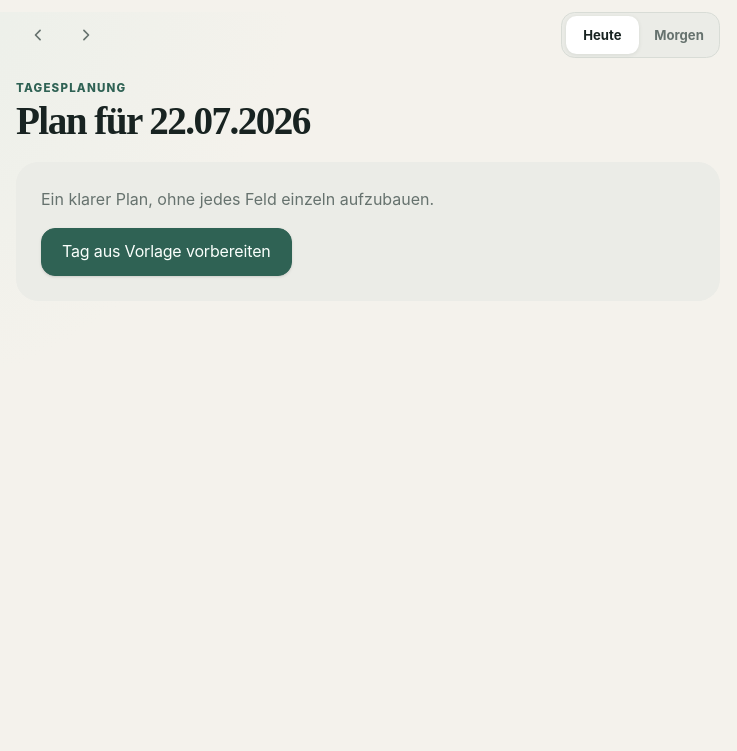
Test: Einfacher Block-Tagesplan › bereitet den gewählten Tag aus der Vorlage vor und zeigt nur die sechs Blöcke
Expected: the heading "Plan für 22.07.2026" is shown, [16,100,310,142]
Step 1. Click the button "Tag aus Vorlage vorbereiten" → (166, 252), box [41,228,292,276]
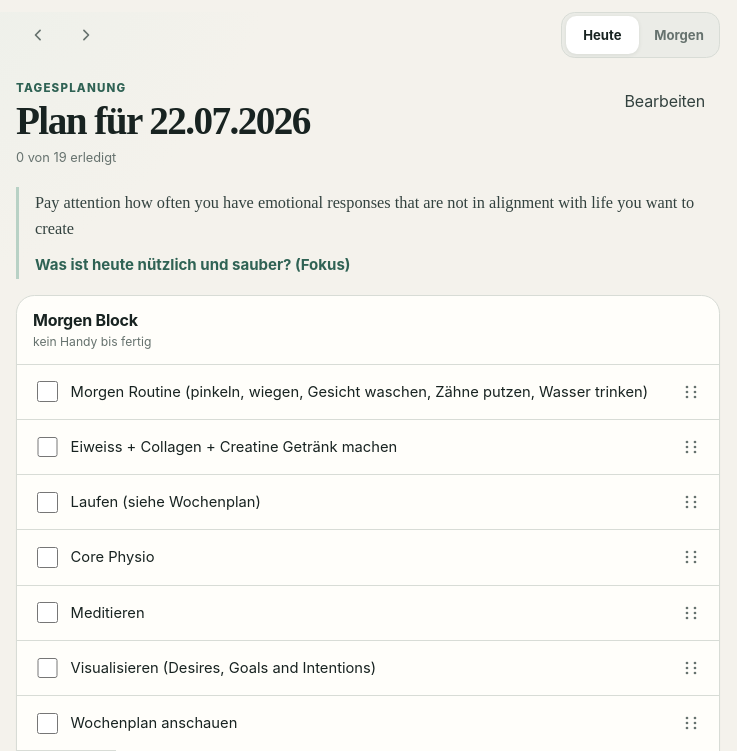
Expected: the heading "Morgen Block" is shown, [33,310,138,330]
Expected: the text "kein Handy bis fertig" is shown, [33,334,151,349]
Expected: the text "Pay attention how often" is shown, [35,193,694,238]
